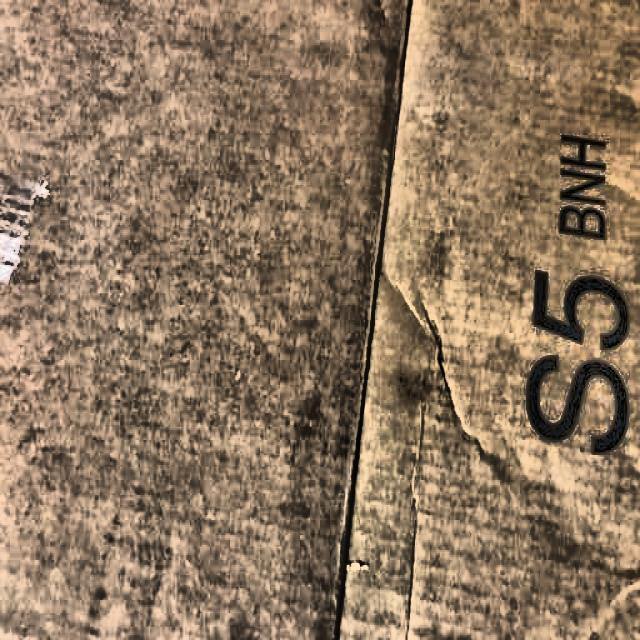cardboard: (3, 8, 640, 619)
